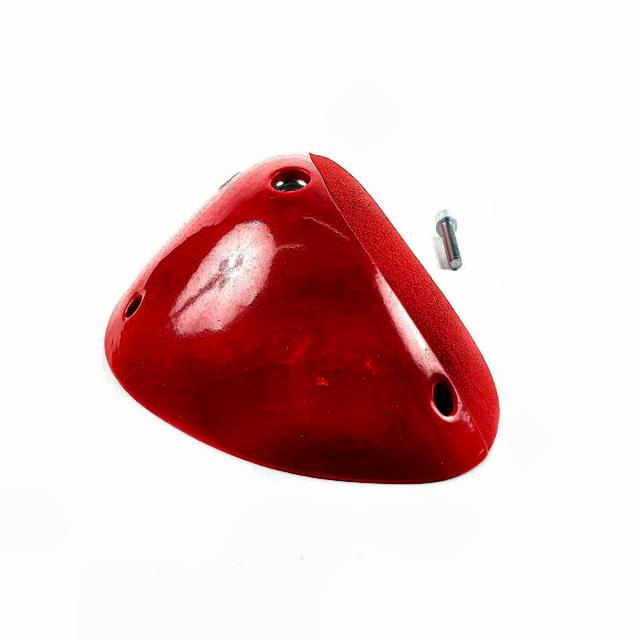Hold: (94, 140, 511, 491)
